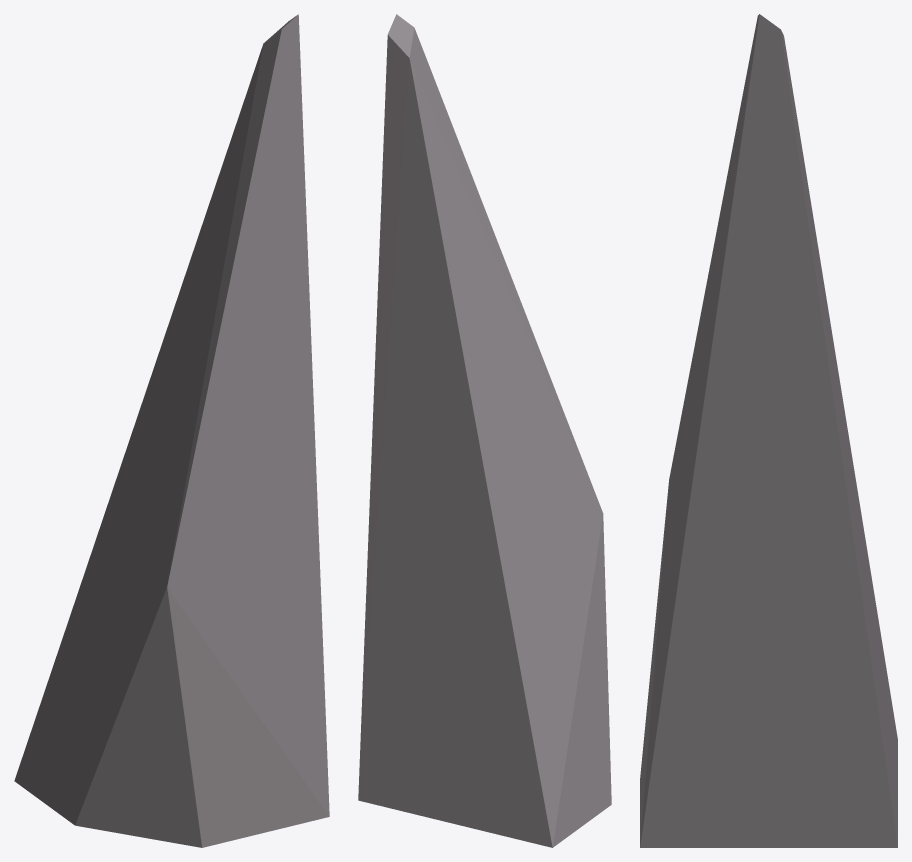
The model's file is Rock_Sharp_s_02.fbx.
3 renders of one model, left to right at view 1: azimuth 30°, elevation 25°; view 2: azimuth 150°, elevation 25°; view 3: azimuth 270°, elevation 25°, orthographic. The views are drawn at different scales.
Parts seen in each view (by area): view 1: Rock_Sharp_s_02; view 2: Rock_Sharp_s_02; view 3: Rock_Sharp_s_02.
Part boxes in pixels (<box>): Rock_Sharp_s_02: <box>14,14,329,847</box>; Rock_Sharp_s_02: <box>358,14,611,847</box>; Rock_Sharp_s_02: <box>640,14,897,847</box>.
Size of the model in its own units: 24.88 by 81.01 by 22.36.
